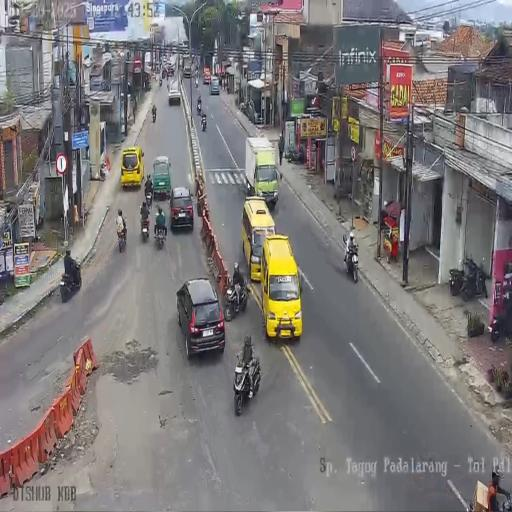3: (244, 135, 277, 202)
car: (260, 234, 302, 339), (176, 278, 226, 357), (169, 186, 194, 231), (120, 146, 144, 190), (152, 155, 173, 198), (168, 78, 181, 105), (210, 76, 220, 95), (183, 56, 191, 78), (203, 67, 211, 84), (167, 64, 174, 77), (162, 67, 168, 79)
truck: (233, 346, 260, 415), (450, 257, 488, 302), (490, 288, 512, 342), (224, 274, 248, 320), (59, 260, 81, 302), (343, 232, 359, 282), (285, 143, 303, 164), (116, 222, 126, 252), (140, 212, 150, 240), (156, 223, 165, 249), (145, 185, 153, 211), (200, 114, 206, 132), (196, 97, 202, 113), (152, 107, 156, 122), (194, 77, 198, 88), (159, 77, 162, 87)
